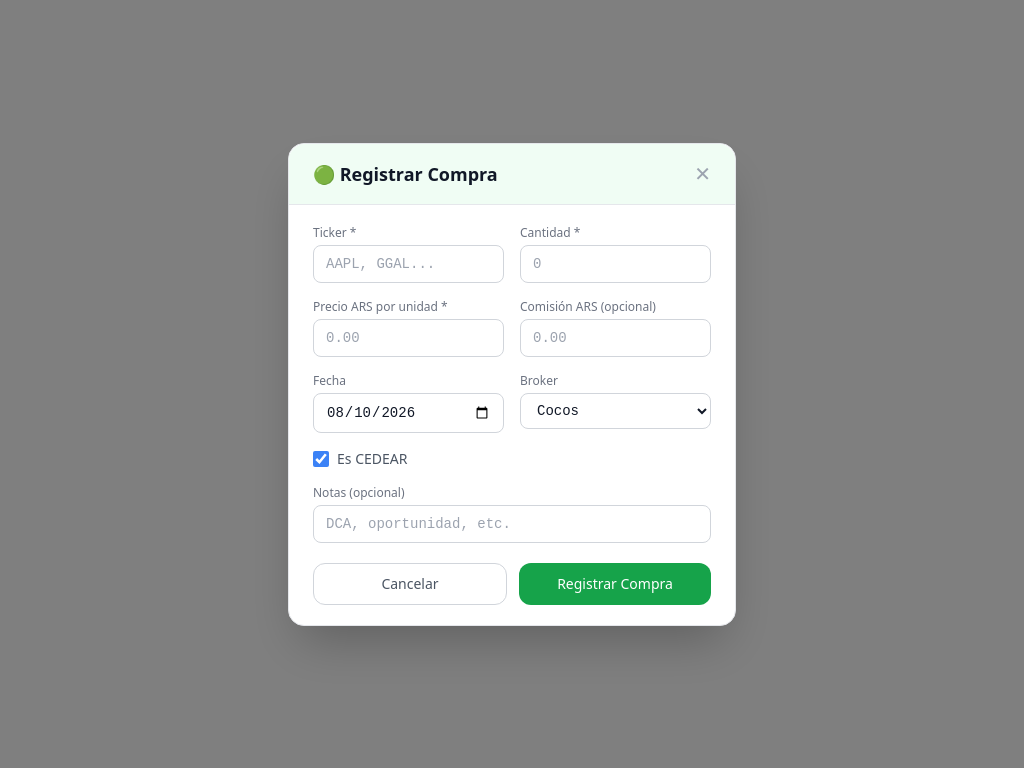
Test: ModalOperacion — cálculo del total › no deja enviar sin ticker/cantidad/precio y muestra el error de validación
This screenshot has width=1024, height=768.
What coordinates should you click on to do the following:
click the button "Registrar Compra"
I would click on:
 (615, 584)
Its box is [519,562,711,604].
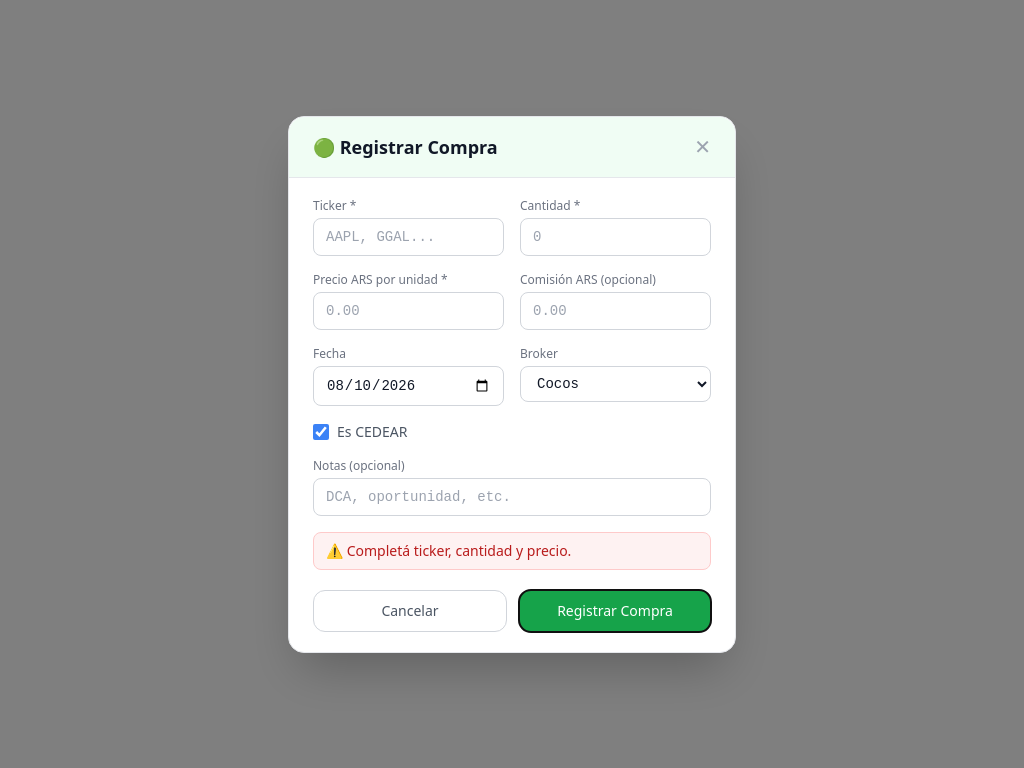
Now the text "⚠️ Completá ticker, cantidad y precio." is shown, box [313,532,711,570]
